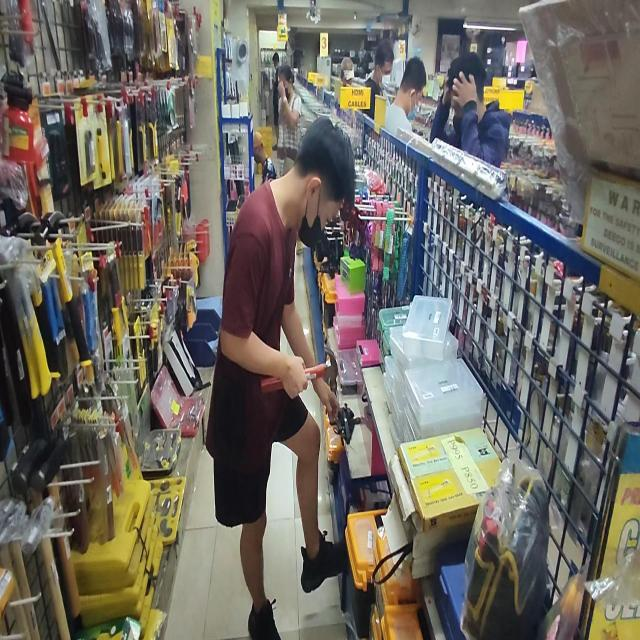hammer: (260, 346, 338, 394)
